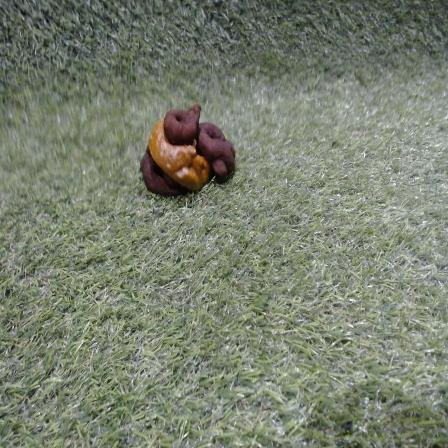dog-poop: (145, 102, 233, 196)
